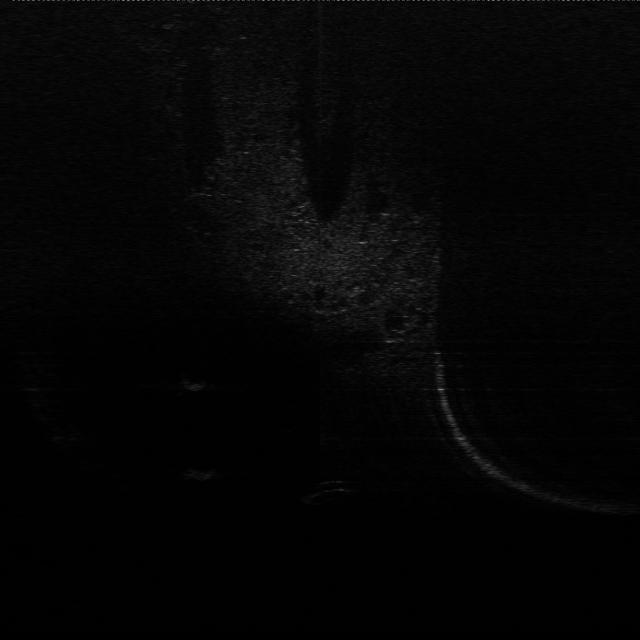cube: (181, 457, 223, 482)
square cage: (178, 371, 212, 393)
tyre: (299, 472, 363, 515)
